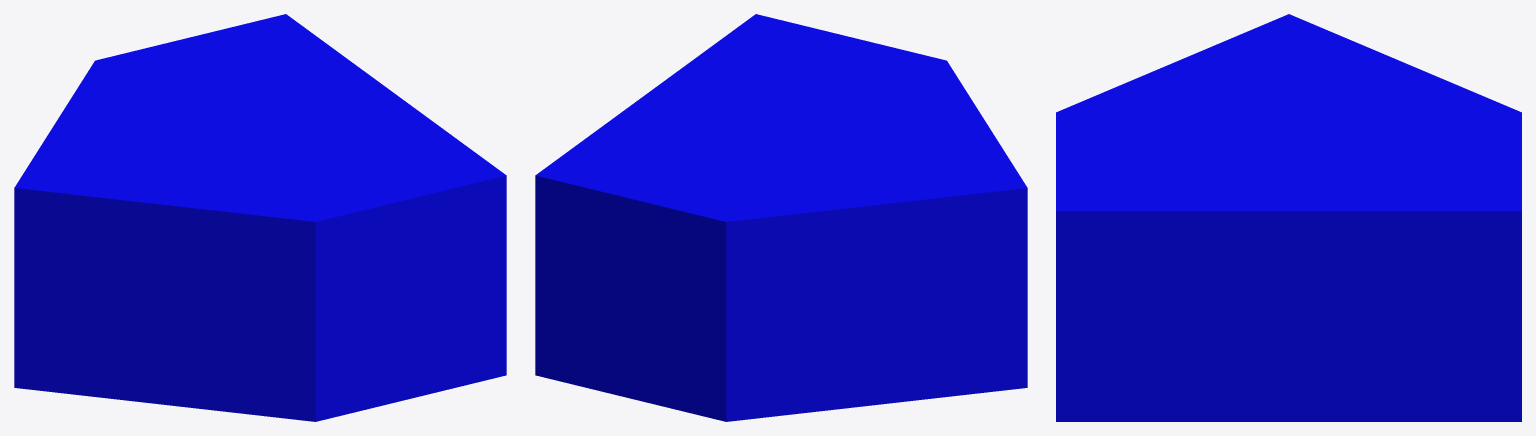
File: dock_shape.dae
3 views of the same model, side by side, from view 1: azimuth 30°, elevation 25°; view 2: azimuth 150°, elevation 25°; view 3: azimuth 270°, elevation 25° (orthographic). The views are drawn at different scales.
Parts seen in each view (by area): view 1: Cube.005; view 2: Cube.005; view 3: Cube.005.
Boxes of the visible parts, x1,y1,x2,y2 form: Cube.005: (14,14,506,421); Cube.005: (535,14,1027,421); Cube.005: (1056,14,1521,421).
Bounding box in the file's own units: 0.2 × 0.2 × 0.1.
